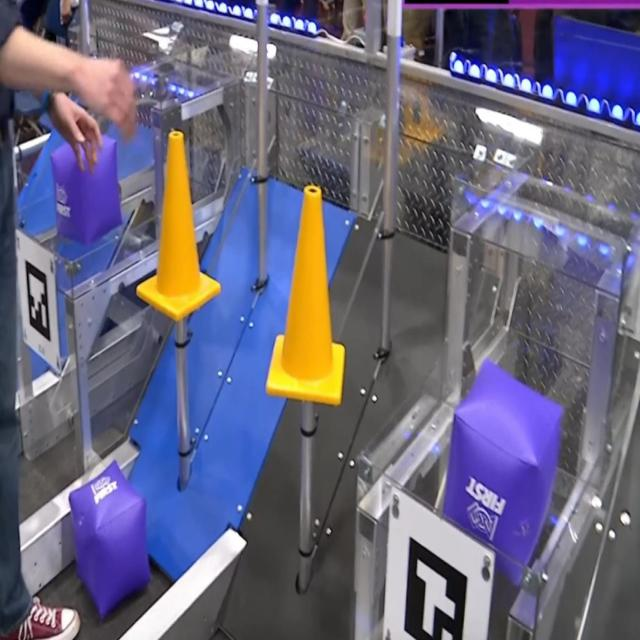frc_cone: (136, 122, 228, 324), (268, 188, 346, 407)
frc_cube: (439, 354, 561, 590), (67, 458, 149, 616), (52, 133, 122, 243)
